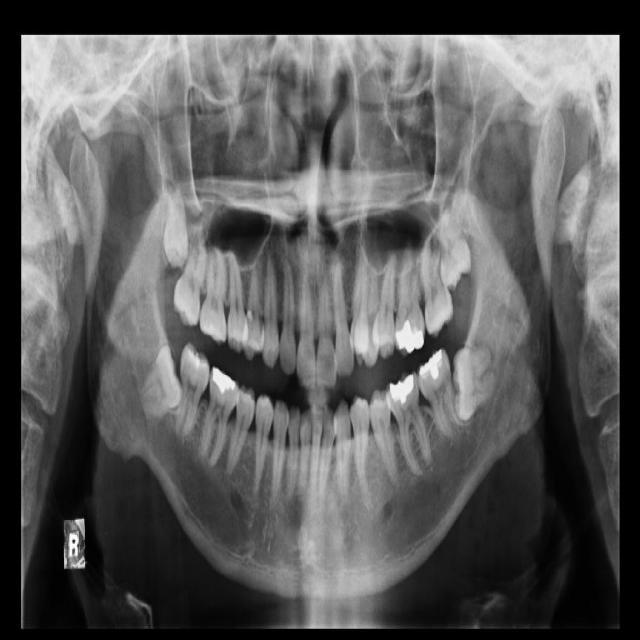3M ESPE Implant: (162, 192, 189, 268)
52: (407, 346, 465, 402), (194, 363, 249, 417), (379, 368, 432, 421), (175, 342, 212, 398), (392, 302, 426, 357)
73: (591, 595, 605, 603)
BioHorizons Implant: (416, 230, 456, 339)
BioLife Implant: (440, 209, 474, 290)
Biomet 3i Implant: (452, 343, 496, 421)
Blue Sky Bio Implant: (411, 347, 466, 444)
Caries: (168, 232, 212, 329)
Implant: (174, 342, 212, 437)
Keystone Dental Implant: (132, 342, 187, 420)
